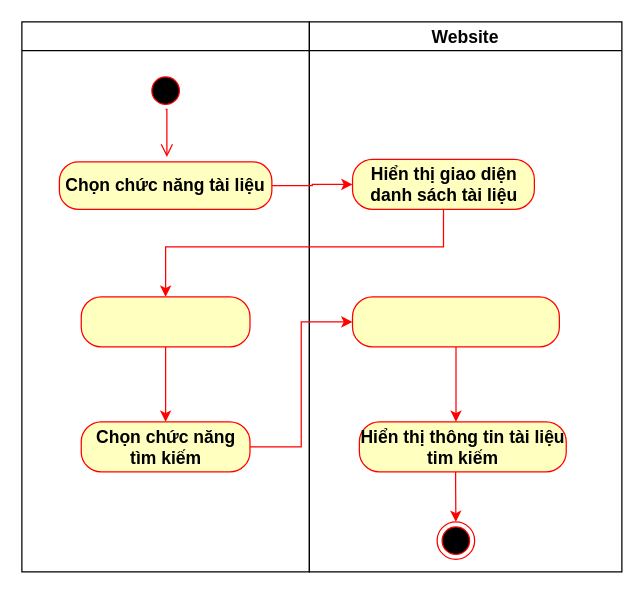
Some shapes in this 644 by 594 pixel diagram are drawn without their labels. The shapes that lost their labels are listed below. From the top down, each one's box as (x1, y1, x2, y2) in pixels, then its label:
(21, 21, 309, 572): Người dùng
(80, 296, 250, 347): Nhập thông tin muốn tìm kiếm
(351, 296, 559, 347): Hệ thống sử lý
